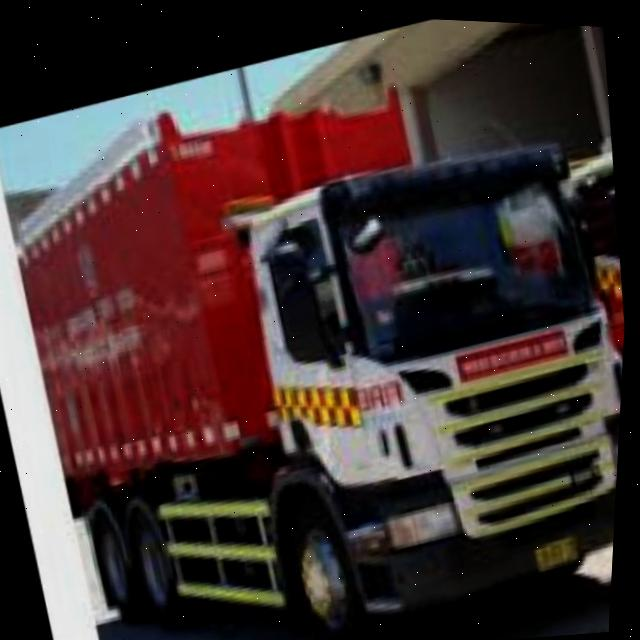emergency: (0, 49, 638, 640)
